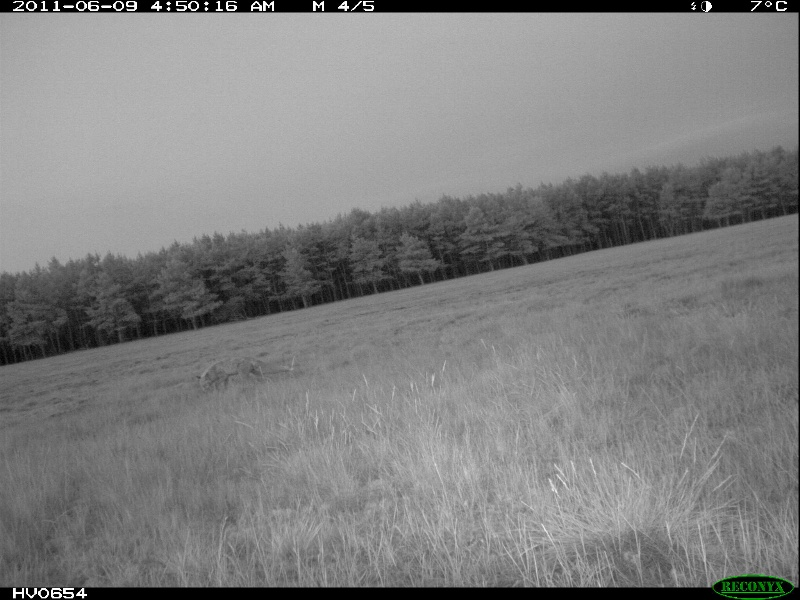fox: (194, 353, 296, 393)
